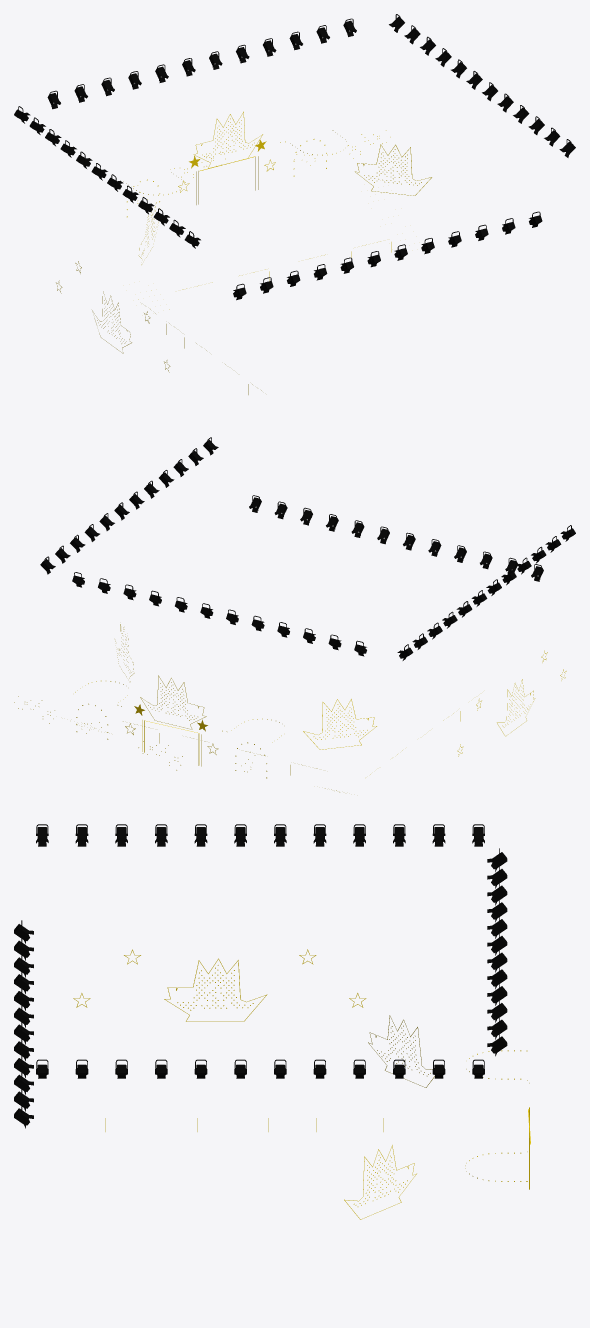
Rendered from Studio_Light.fbx.
3 views of the same model, one above another, from view 1: azimuth 30°, elevation 25°; view 2: azimuth 150°, elevation 25°; view 3: azimuth 270°, elevation 25° (orthographic). The views are drawn at different scales.
Visible parts, largest first — view 1: スタジオ照明, Light; view 2: スタジオ照明, Light; view 3: スタジオ照明, Light.
Part boxes in pixels (x1,y1,x2,y2): スタジオ照明: (14,14,575,300); Light: (56,111,431,394); スタジオ照明: (40,437,575,660); Light: (14,624,566,792); スタジオ照明: (14,824,507,1128); Light: (73,949,530,1219).
Size of the model in its own units: 7492 by 3632 by 7084.
